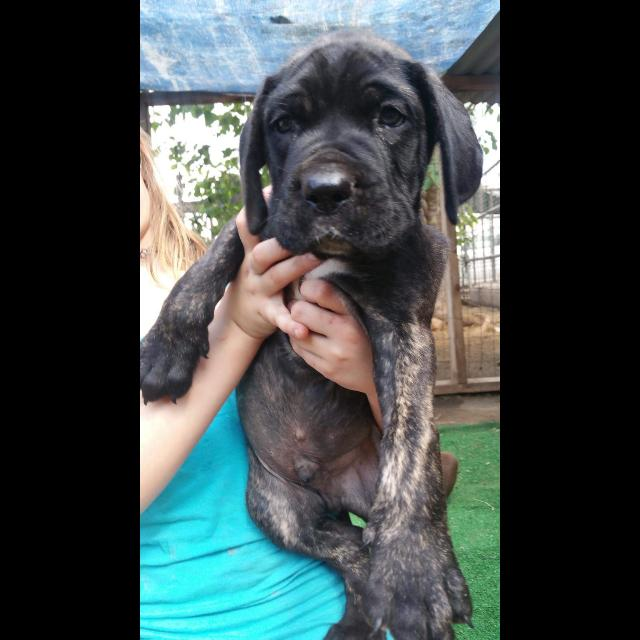mastino_napoletano: (142, 29, 484, 639)
person: (141, 130, 383, 639)
